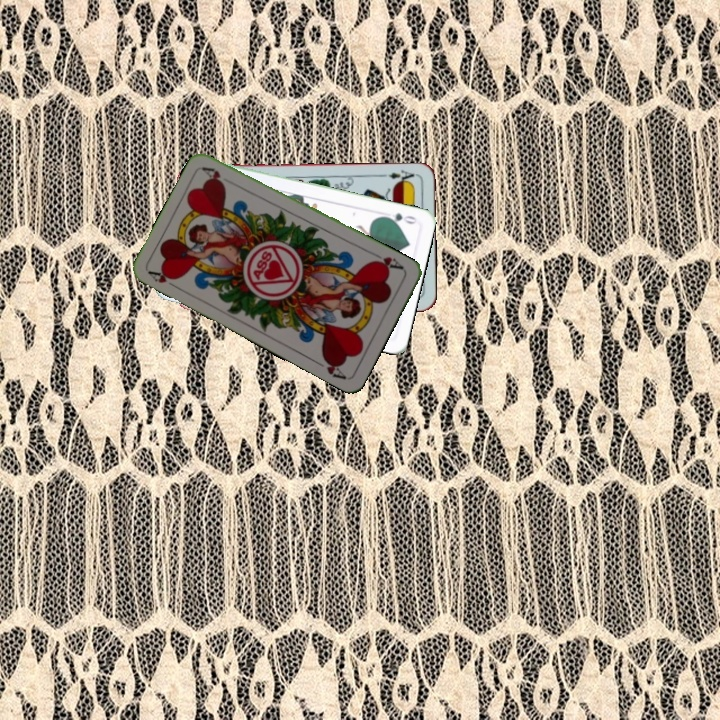EA: (384, 166, 419, 186)
GO: (379, 209, 419, 227)
HA: (145, 266, 182, 292), (368, 249, 406, 272)
